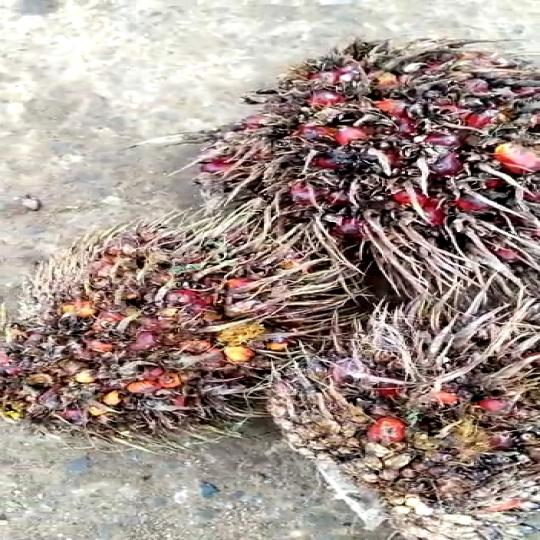terlalu masak: (193, 38, 540, 274), (241, 271, 540, 540), (0, 232, 343, 430)
